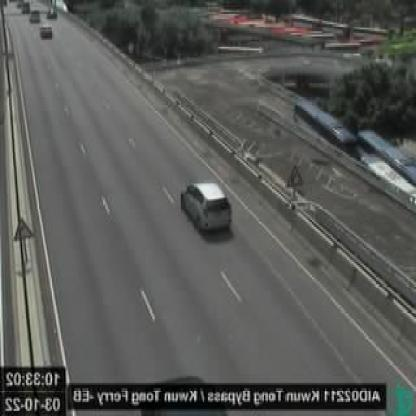Car: (180, 180, 233, 231)
